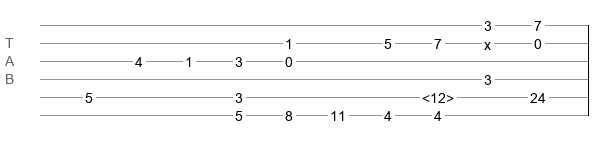0: (285, 54, 293, 64), (534, 36, 542, 46)
1: (185, 54, 193, 64), (285, 36, 293, 46)
11: (330, 108, 346, 118)
24: (530, 90, 546, 100)
3: (235, 90, 243, 100), (235, 54, 243, 64), (484, 72, 492, 82), (484, 18, 492, 28)
4: (135, 54, 143, 64), (384, 108, 392, 118), (434, 108, 442, 118)
5: (85, 90, 93, 100), (235, 108, 243, 118), (384, 36, 392, 46)
7: (434, 36, 442, 46), (534, 18, 542, 28)
8: (285, 108, 293, 118)
harmonic: (422, 90, 454, 100)
x: (484, 37, 491, 45)
